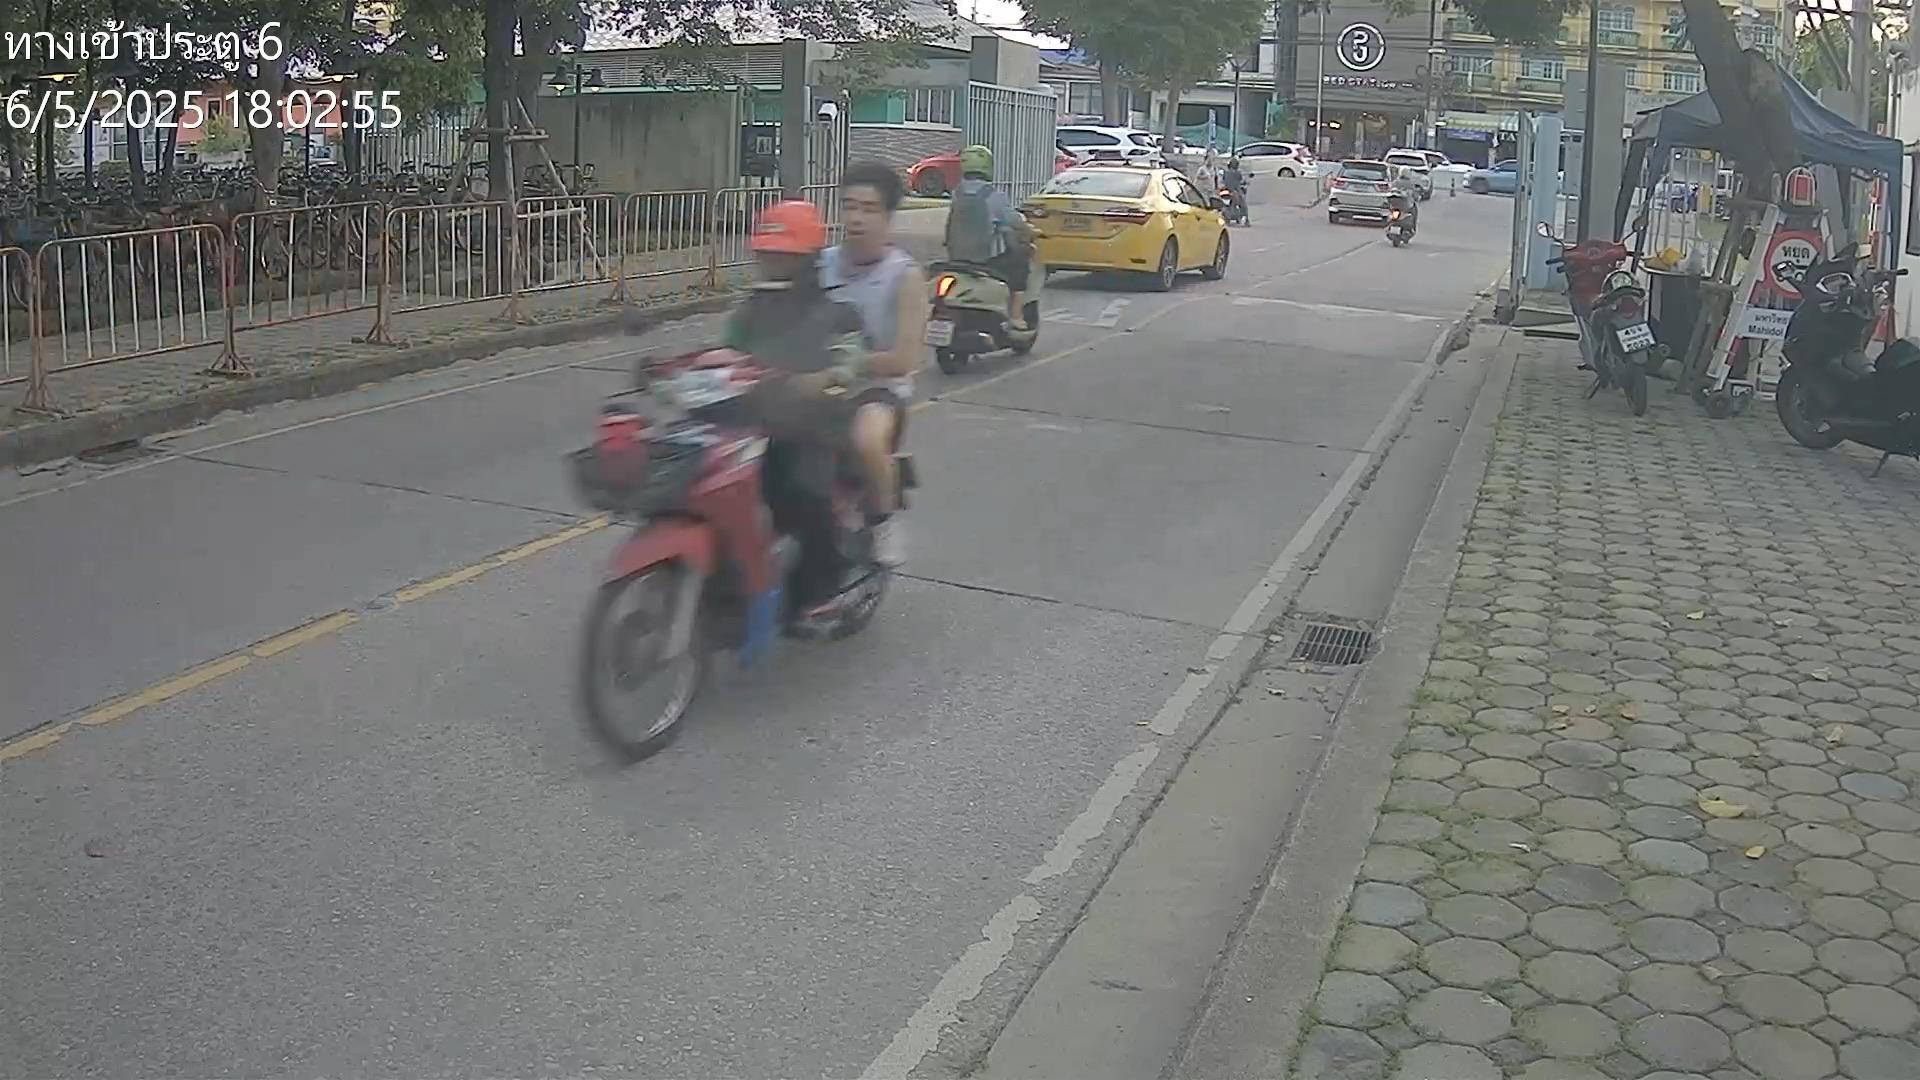With-Helmet: (748, 198, 823, 286)
